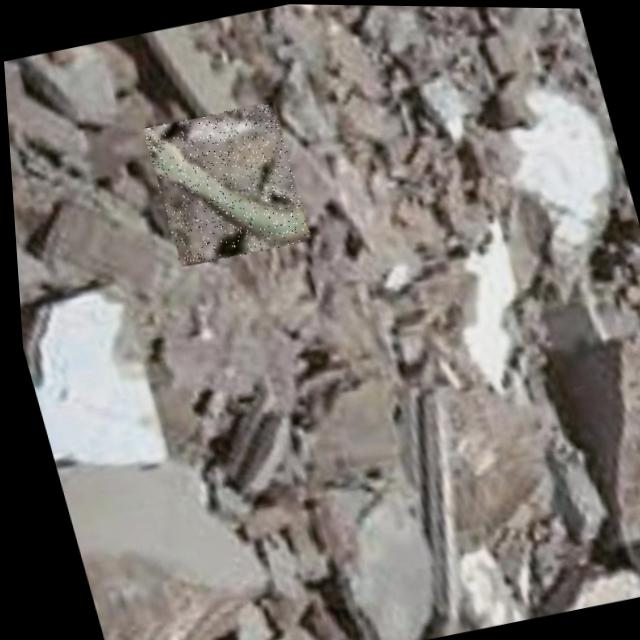Person in Rubble: (138, 99, 309, 268)
